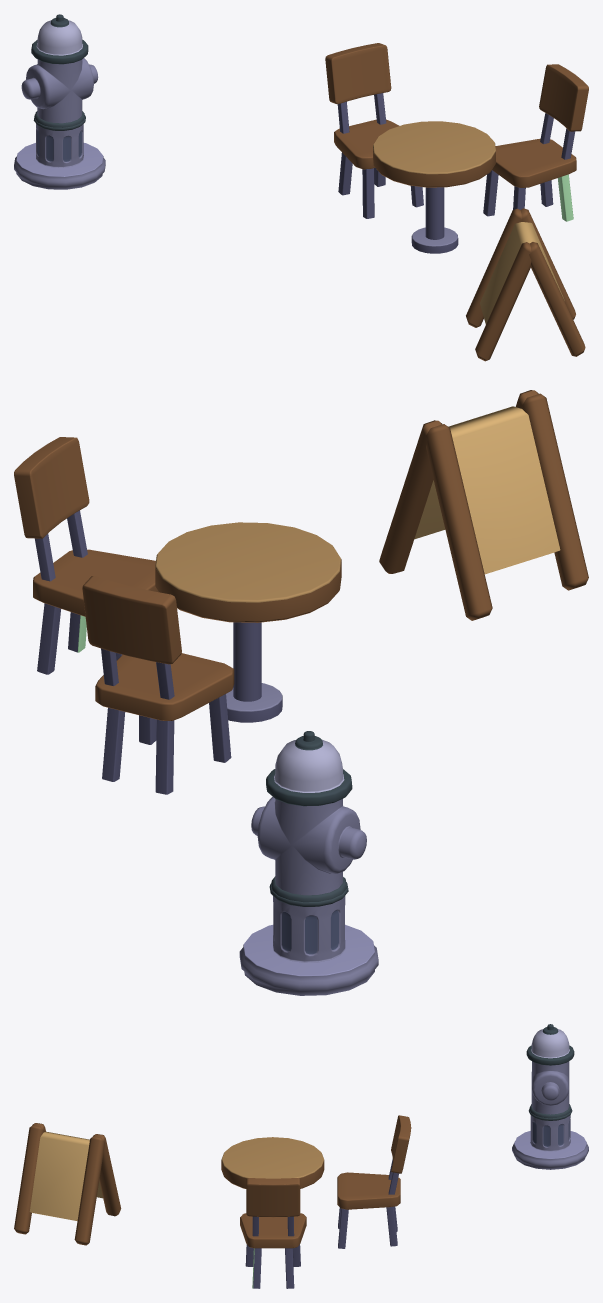
The model's file is Chair.fbx.
The picture shows the model from 3 angles, top to bottom: view 1: azimuth 30°, elevation 25°; view 2: azimuth 150°, elevation 25°; view 3: azimuth 270°, elevation 25°; orthographic projection. The views are drawn at different scales.
Visible parts, largest first — view 1: polySurface2, polySurface1; view 2: polySurface2, polySurface1; view 3: polySurface2, polySurface1.
Boxes of the visible parts, <box> form: polySurface2: <box>325,43,588,361</box>; polySurface1: <box>14,14,105,189</box>; polySurface2: <box>14,390,588,794</box>; polySurface1: <box>239,731,378,995</box>; polySurface2: <box>14,1115,411,1288</box>; polySurface1: <box>512,1024,588,1169</box>.
Size of the model in its own units: 12.76 by 4.92 by 19.66.
